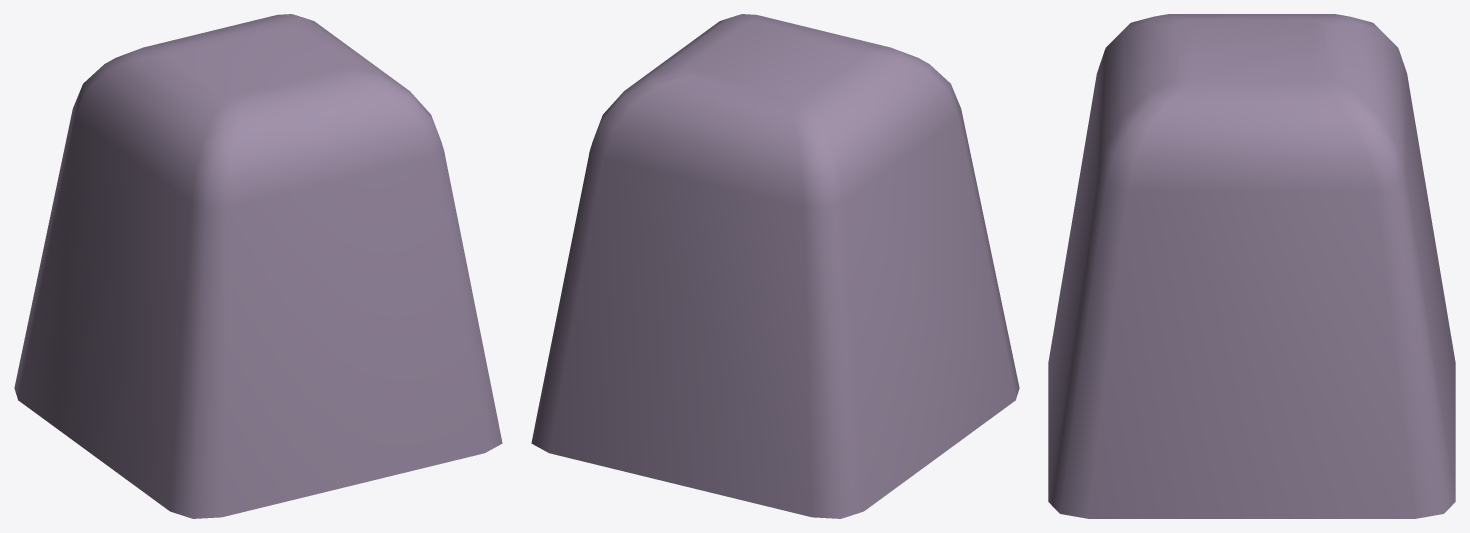
Rendered from SM_Stone_Mid1.fbx.
3 renders of one model, left to right at view 1: azimuth 30°, elevation 25°; view 2: azimuth 150°, elevation 25°; view 3: azimuth 270°, elevation 25°, orthographic. The views are drawn at different scales.
Parts seen in each view (by area): view 1: SM_Stone_Mid1; view 2: SM_Stone_Mid1; view 3: SM_Stone_Mid1.
Part boxes in pixels (x1,y1,x2,y2): SM_Stone_Mid1: (14,14,502,518); SM_Stone_Mid1: (531,14,1019,518); SM_Stone_Mid1: (1048,14,1455,518).
Bounding box in the file's own units: 2 × 2.06 × 2.
